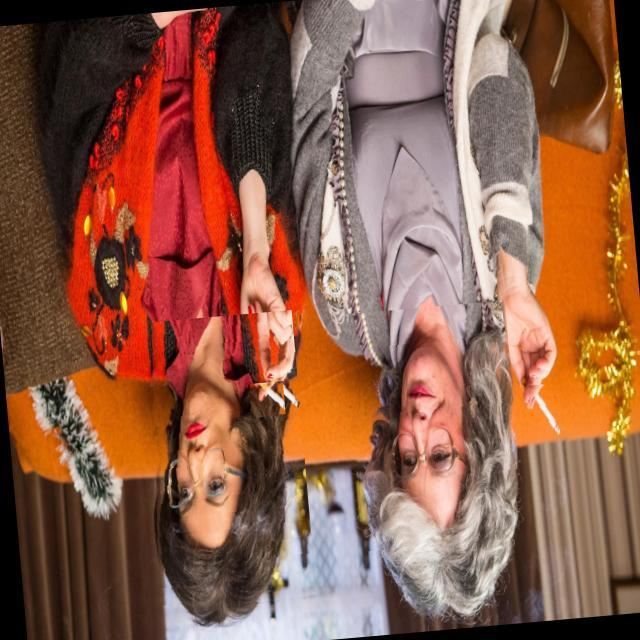cigarette: (525, 383, 568, 450), (248, 382, 286, 419)
